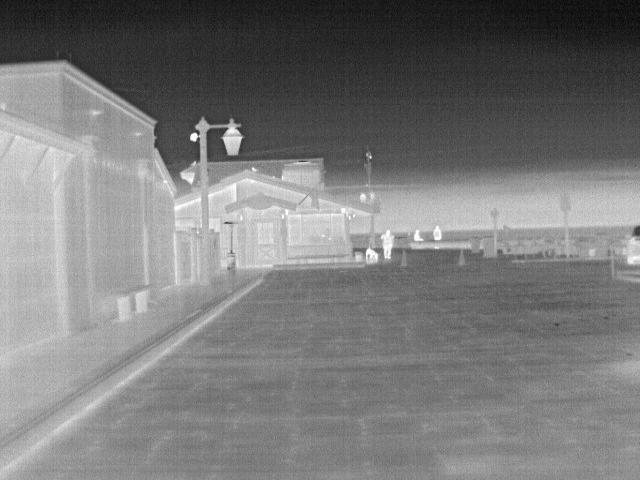car: (623, 224, 640, 265)
dog: (365, 248, 381, 264)
person: (381, 228, 396, 260), (412, 227, 427, 242), (432, 224, 445, 241)
